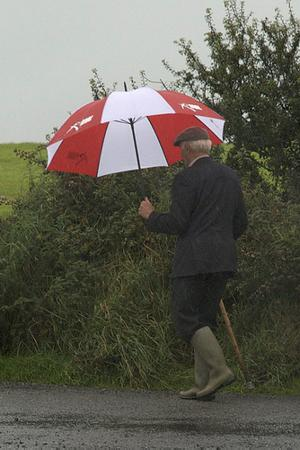person: (139, 126, 248, 404)
